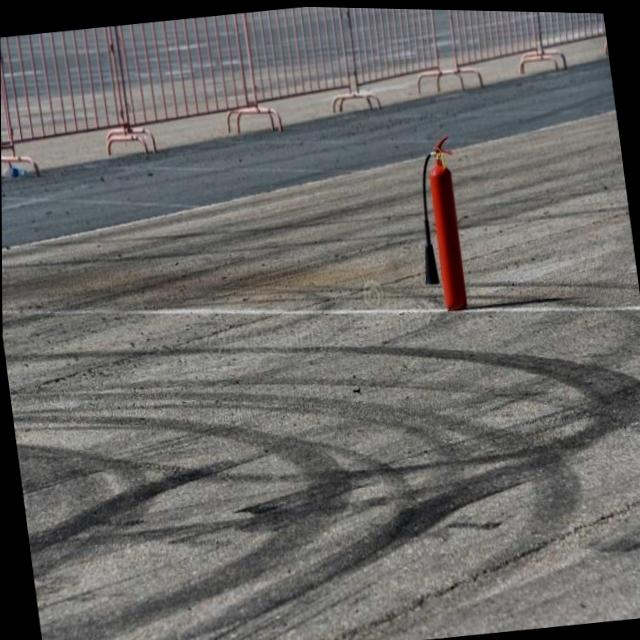FireExtinguisher: (402, 129, 474, 317)
